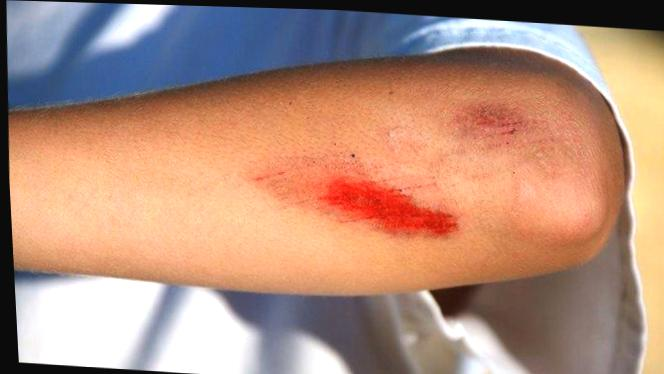Fire: (317, 175, 455, 233)
